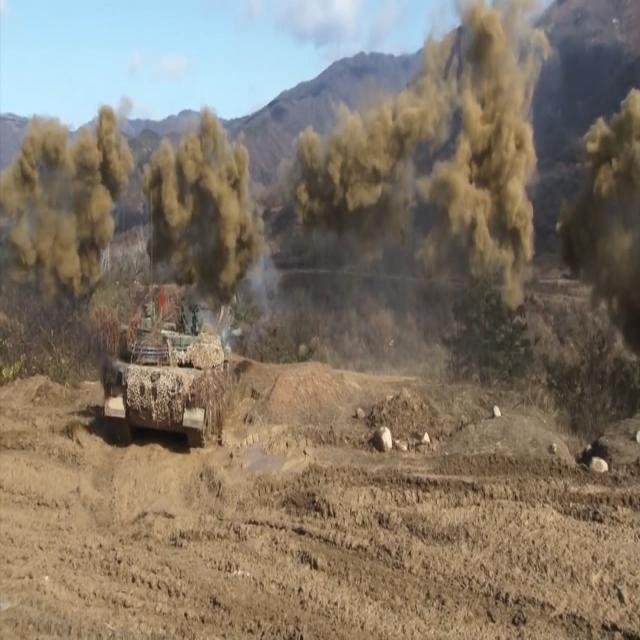korea tank: (93, 291, 279, 457)
